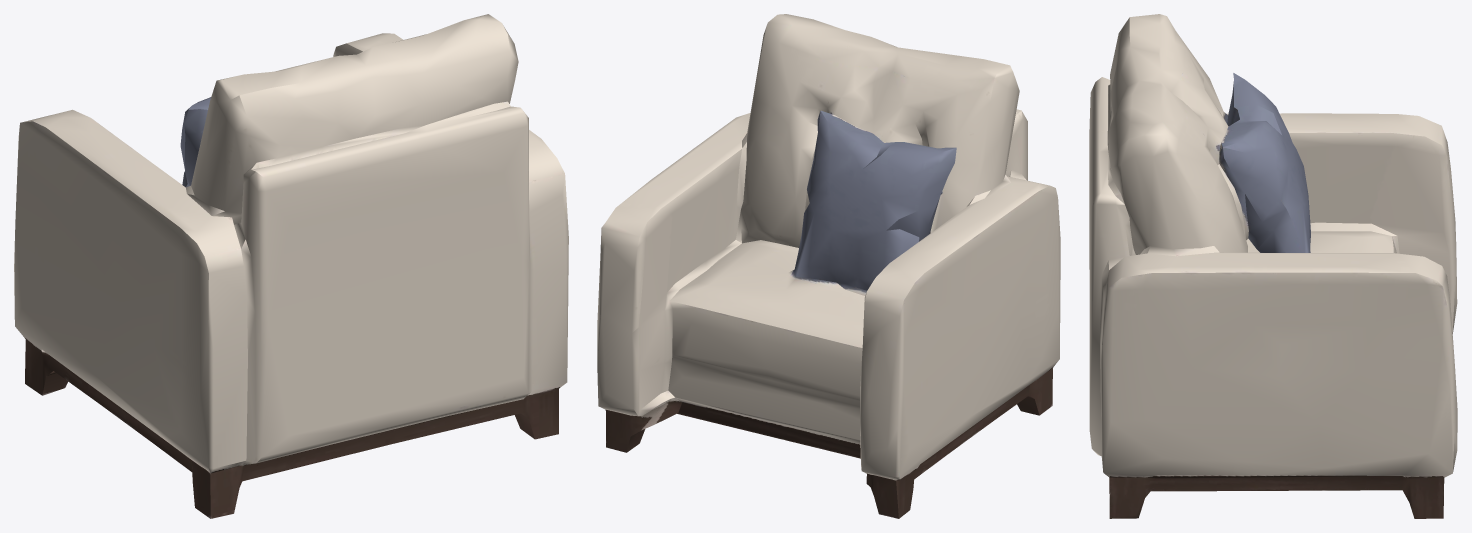
File: seat_reading-chair_v2.glb
3 renders of one model, left to right at view 1: azimuth 30°, elevation 25°; view 2: azimuth 150°, elevation 25°; view 3: azimuth 270°, elevation 25°, orthographic. The views are drawn at different scales.
Visible parts, largest first — view 1: body; view 2: body; view 3: body.
Part boxes in pixels (x1,y1,x2,y2): body: (14,14,568,518); body: (597,14,1060,518); body: (1089,14,1457,518).
Bounding box in the file's own units: 0.8687 × 0.9249 × 0.8339.
1 material, 1 textured.
